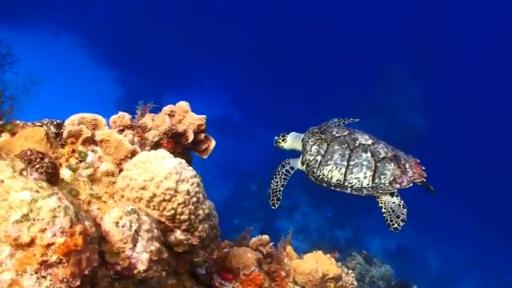Fish: (269, 118, 434, 230)
